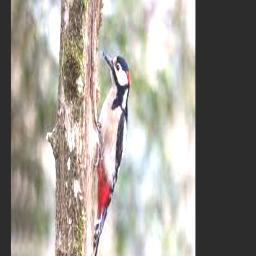Woodpecker: (93, 51, 130, 256)
